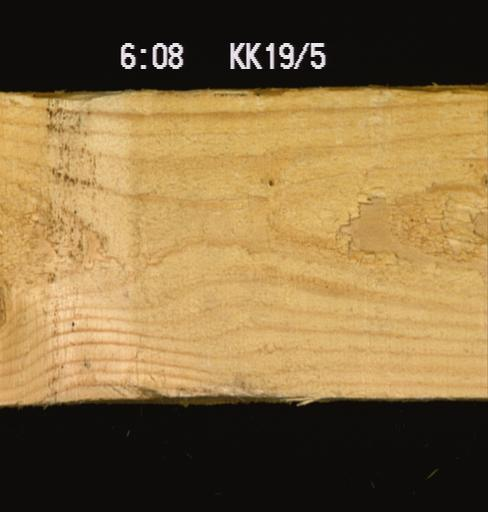small_knot: (475, 164, 486, 192), (264, 174, 277, 189)
wave: (121, 377, 315, 400), (0, 89, 133, 108), (244, 88, 292, 102)
